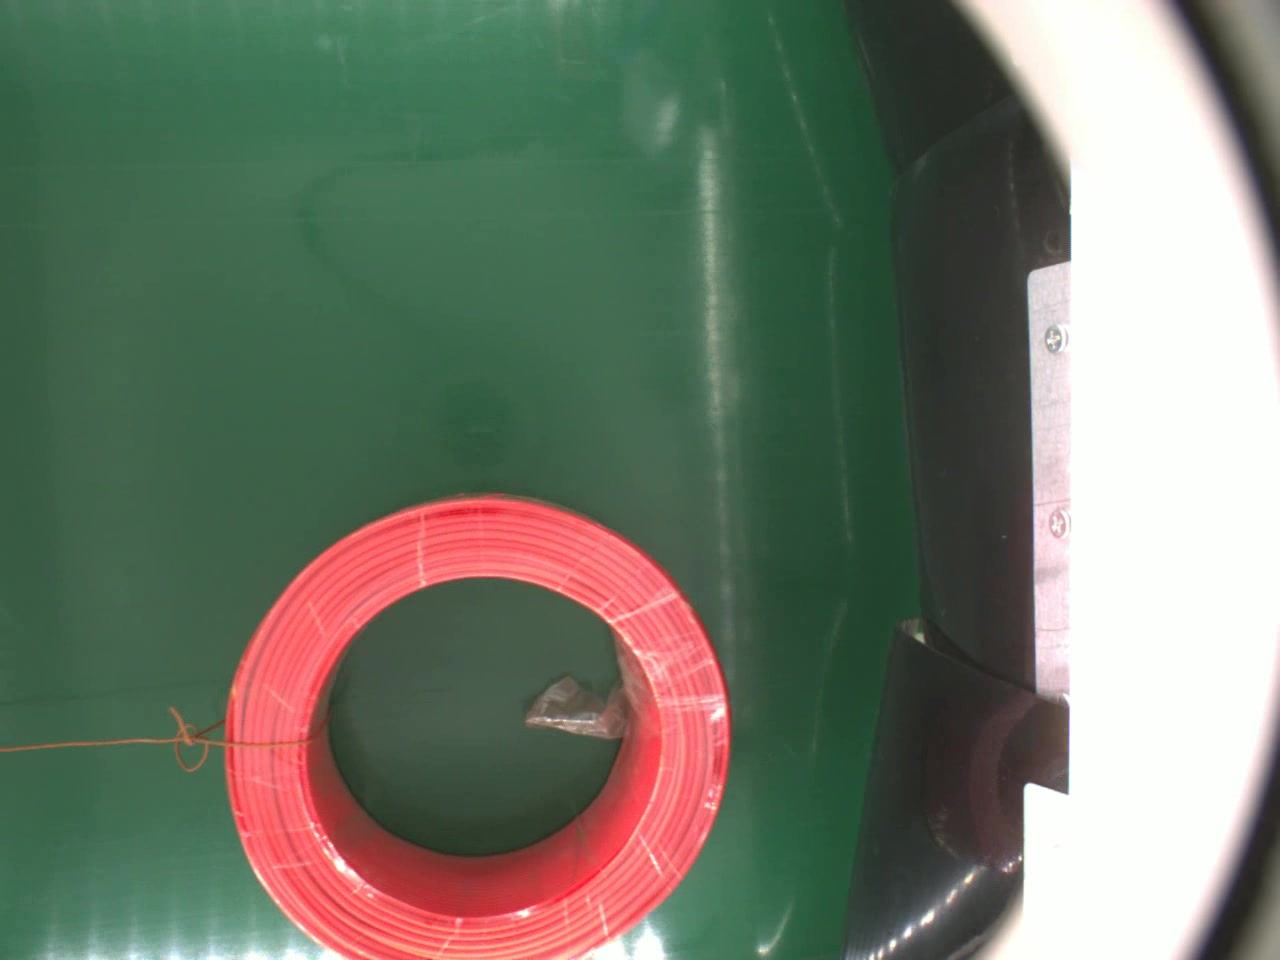red: (214, 492, 739, 960)
